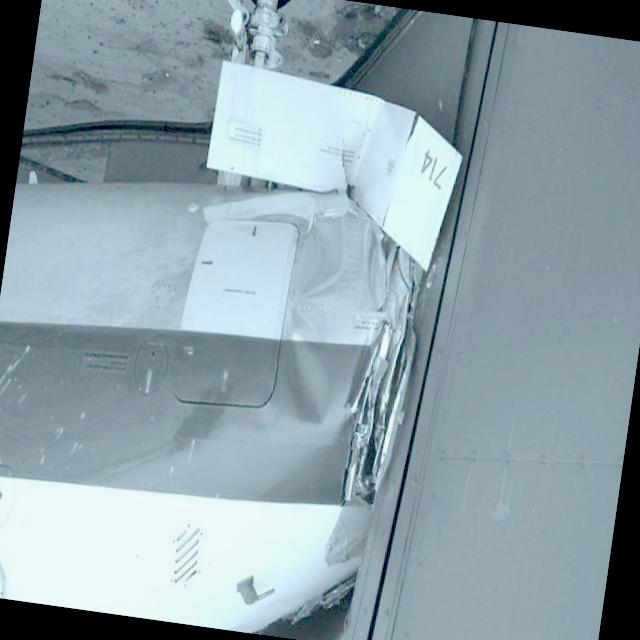dent: (278, 202, 356, 427)
